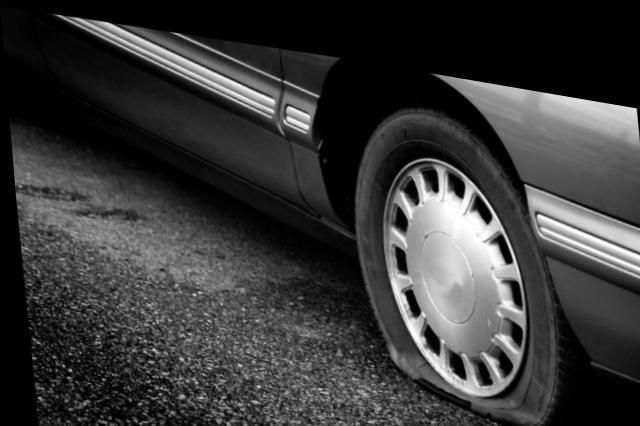tire flat: (351, 90, 574, 410)
